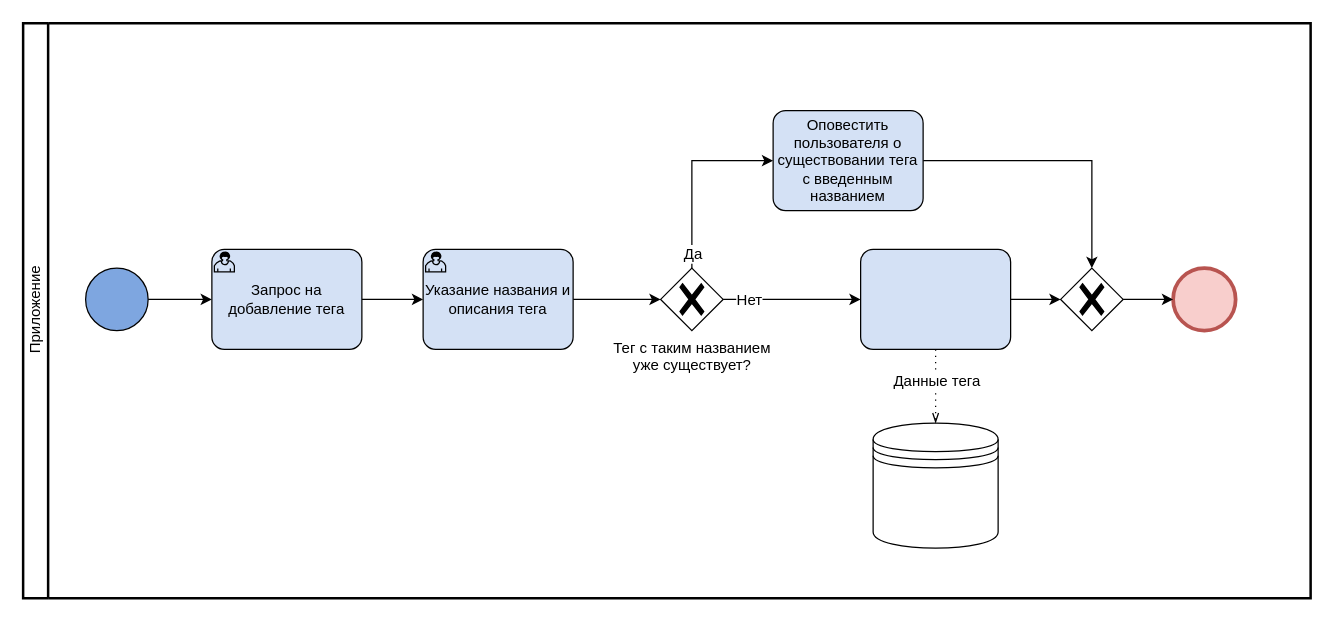
This 1333x620 diagram has some shape labels left out. Here are the shapes that lost their labels. From the top down, the centre of each, then its label:
At point (116, 299): "Вход в систему".
At point (935, 298): "Внести данные в БД".
At point (1204, 299): "Тег добавлен".
